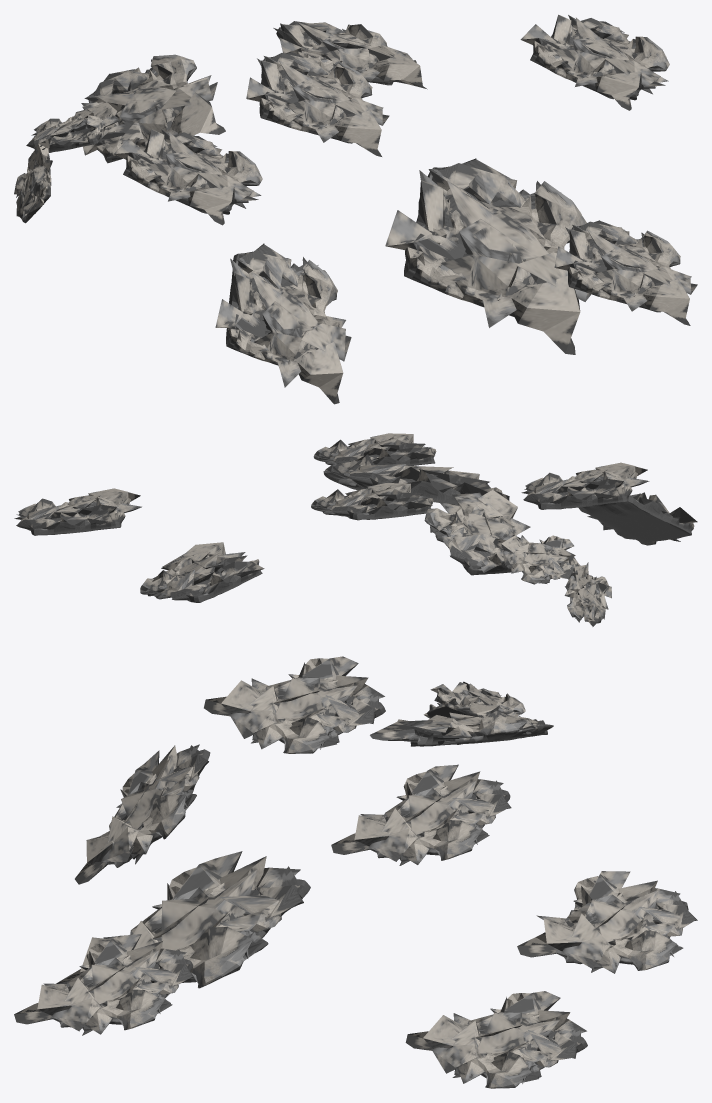
File: stones.fbx
The picture shows the model from 3 angles, top to bottom: view 1: azimuth 30°, elevation 25°; view 2: azimuth 150°, elevation 25°; view 3: azimuth 270°, elevation 25°; orthographic projection. The views are drawn at different scales.
Visible parts, largest first — view 1: pasted__pasted__pasted__pasted__pasted__pasted__pasted__pCu. (×8), pasted__pasted__pasted__pasted__pasted__pasted__pasted__pCub, pasted__pasted__pasted__pasted__pasted__pasted__pasted__pCu; view 2: pasted__pasted__pasted__pasted__pasted__pasted__pasted__pCu. (×8), pasted__pasted__pasted__pasted__pasted__pasted__pasted__pCub, pasted__pasted__pasted__pasted__pasted__pasted__pasted__pCu; view 3: pasted__pasted__pasted__pasted__pasted__pasted__pasted__pCu. (×7), pasted__pasted__pasted__pasted__pasted__pasted__pasted__pCub, pasted__pasted__pasted__pasted__pasted__pasted__pasted__pCu.
Boxes of the visible parts, x1,y1,x2,y2 form: pasted__pasted__pasted__pasted__pasted__pasted__pasted__pCu. (×8): (14, 14, 697, 325); pasted__pasted__pasted__pasted__pasted__pasted__pasted__pCub: (385, 158, 591, 354); pasted__pasted__pasted__pasted__pasted__pasted__pasted__pCu: (215, 243, 351, 404); pasted__pasted__pasted__pasted__pasted__pasted__pasted__pCu. (×8): (14, 433, 649, 626); pasted__pasted__pasted__pasted__pasted__pasted__pasted__pCub: (323, 454, 502, 504); pasted__pasted__pasted__pasted__pasted__pasted__pasted__pCu: (578, 492, 697, 545); pasted__pasted__pasted__pasted__pasted__pasted__pasted__pCu. (×7): (14, 656, 697, 1088); pasted__pasted__pasted__pasted__pasted__pasted__pasted__pCub: (56, 851, 310, 997); pasted__pasted__pasted__pasted__pasted__pasted__pasted__pCu: (75, 744, 210, 884).
Size of the model in its own units: 23256 by 6060 by 20174.
Materials: 10 (10 with a texture image).
